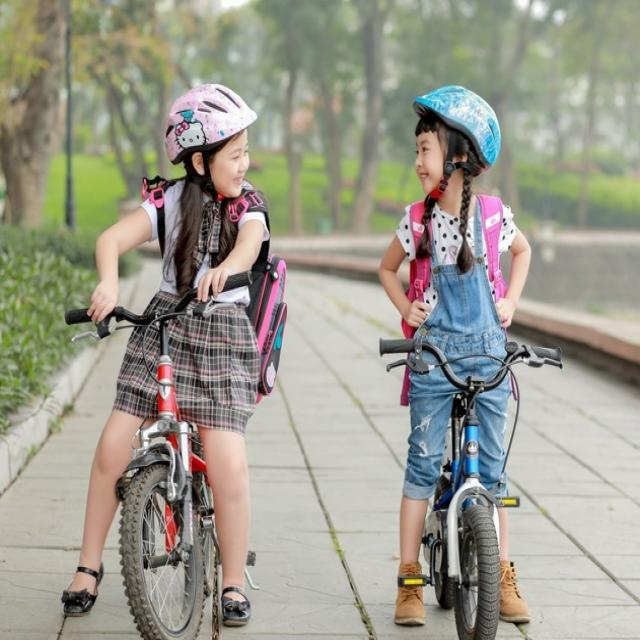helmet: (413, 82, 503, 173), (165, 80, 260, 165)
